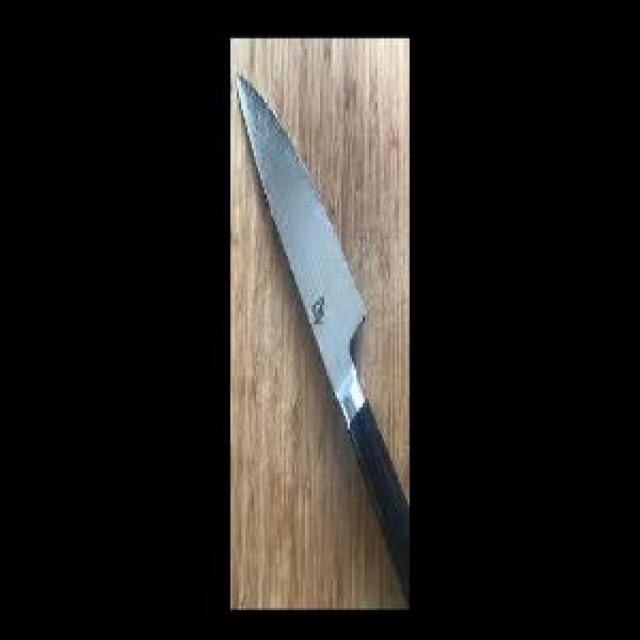knife: (234, 64, 410, 598)
